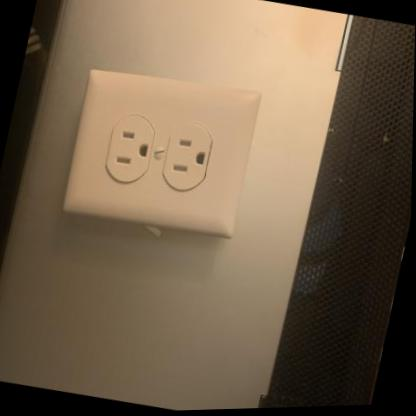OUTLET: (53, 56, 266, 247)
